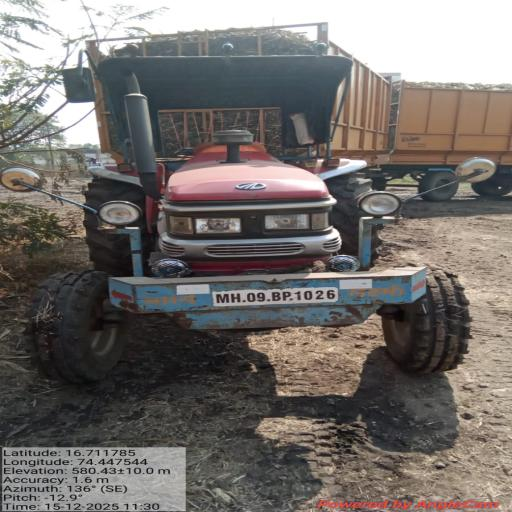number_plate: (207, 287, 350, 305)
